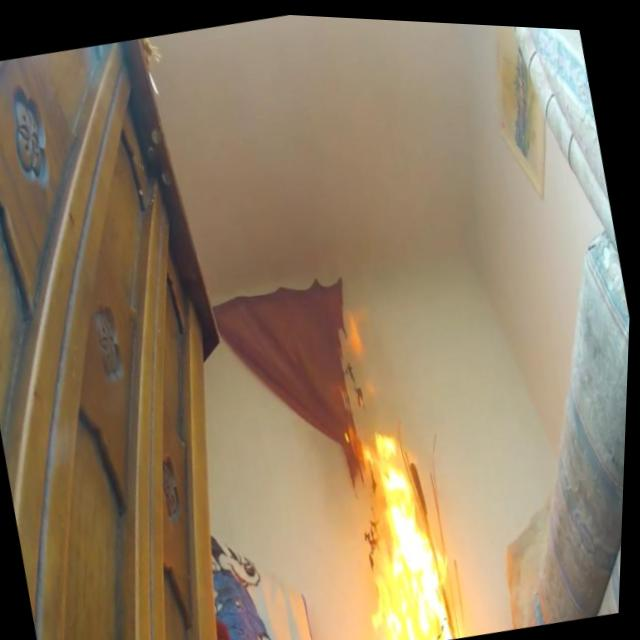fire: (336, 417, 476, 640)
